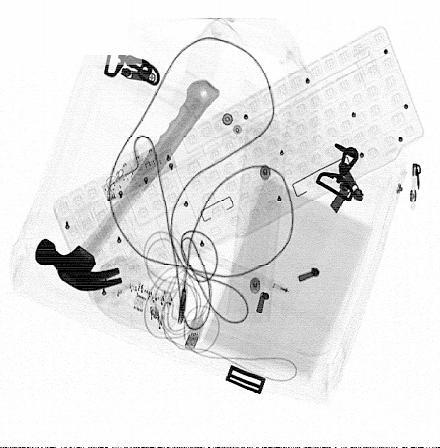Hammer: (34, 79, 220, 292)
